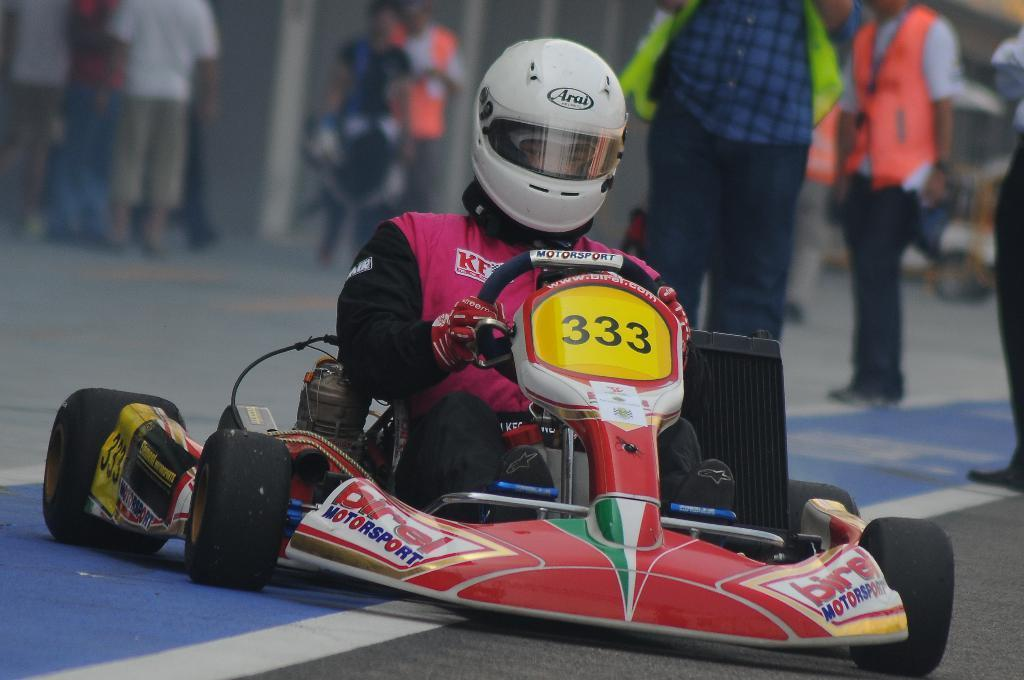helmet: (469, 37, 630, 241)
